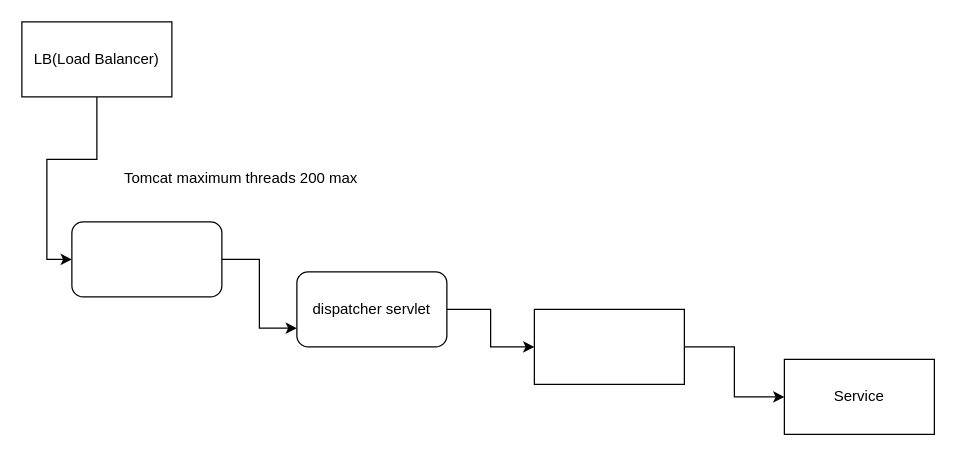
The diagram is 956 pixels wide and 456 high, and some of its shapes have lost their labels. The box of each missing label's shape, as (x1, y1, x2, y2) in pixels:
controller: (533, 308, 684, 384)
tomcat: (71, 221, 222, 297)
